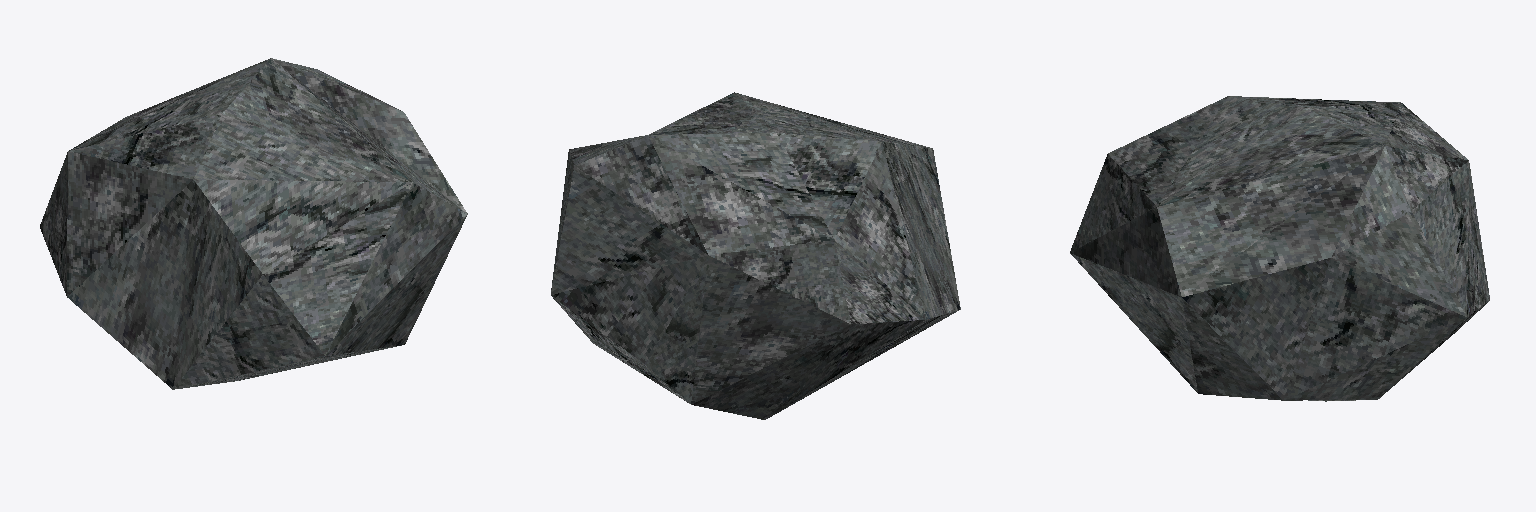
The picture shows the model from 3 angles: view 1: azimuth 30°, elevation 25°; view 2: azimuth 150°, elevation 25°; view 3: azimuth 270°, elevation 25°; orthographic projection.
Parts seen in each view (by area): view 1: Root; view 2: Root; view 3: Root.
Part boxes in pixels (bbox=[...]): Root: bbox=[40, 58, 467, 389]; Root: bbox=[551, 92, 960, 419]; Root: bbox=[1070, 96, 1489, 401].
Size of the model in its own units: 28.28 by 22.26 by 29.68.
Materials: 1 (1 with a texture image).